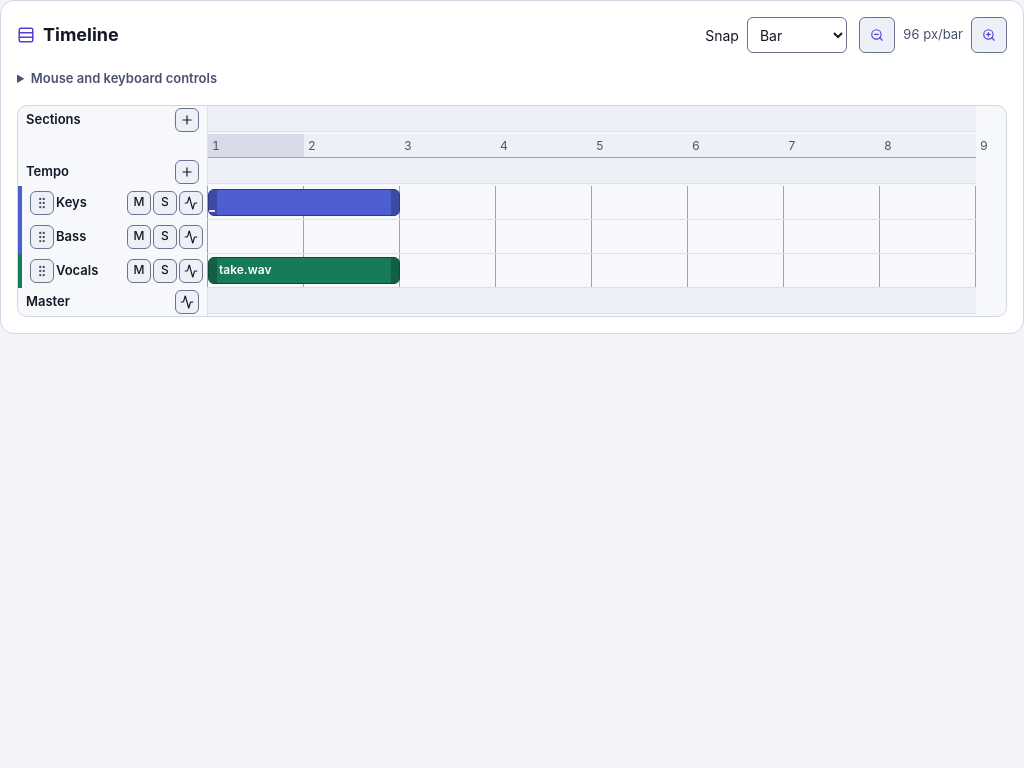
right-clicking a Clip opens its menu, where it offers one, and choosing an item closes it
Note: A Pattern Clip offers nothing here, so the platform's own menu is left alone.
Step 1. Right-click the button named "Keys Clip 1" → point(304, 202), box [208,188,400,216]
Step 2. Right-click the button with aria-label "Vocals Clip 1" → point(304, 270), box [208,256,400,284]
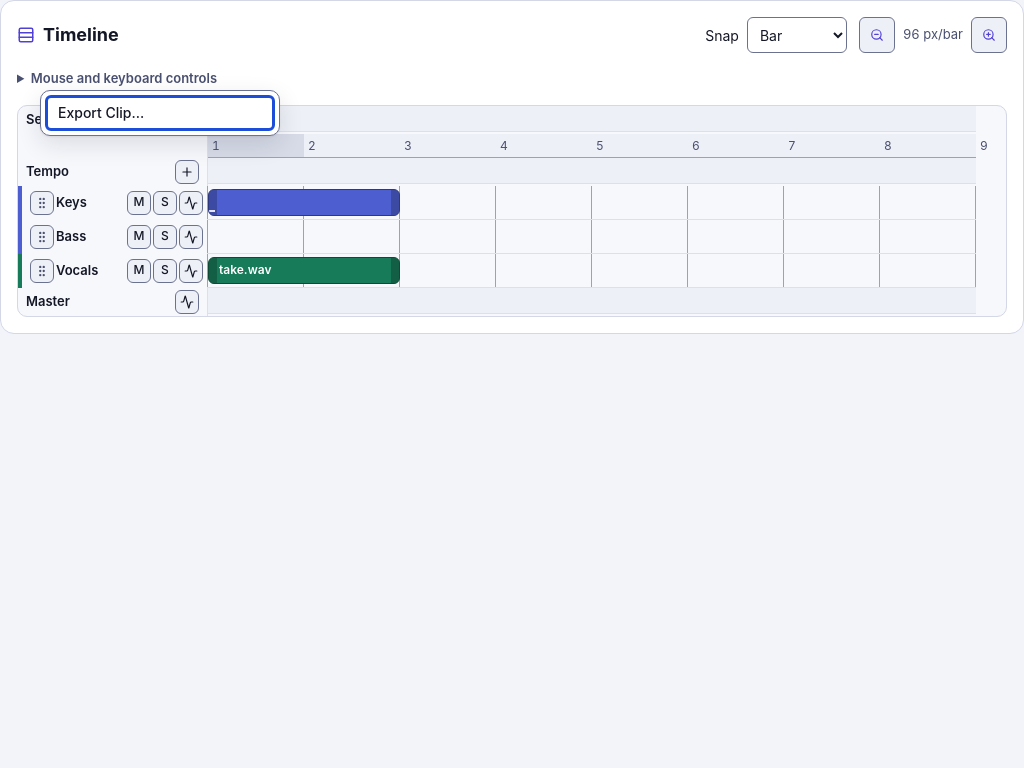
Step 3. Click the menu item "Export Clip…" → point(160, 113), box [45,95,275,131]
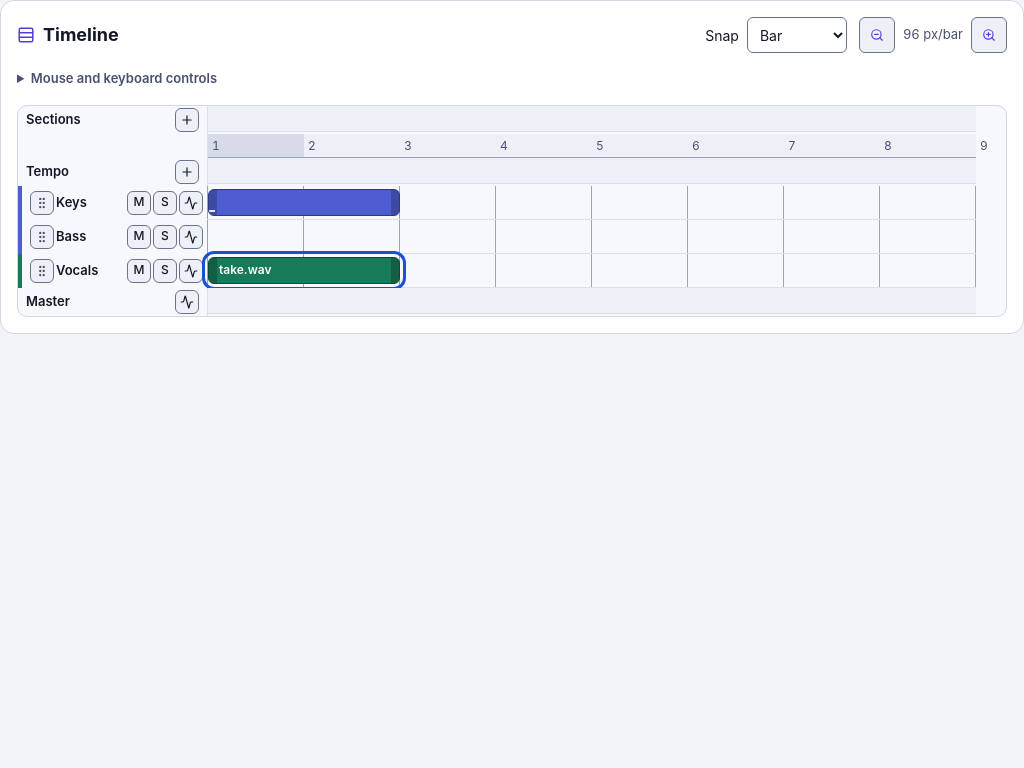
Now the menu is gone
Note: Escape closes it too, and a click outside.
Step 4. Right-click the button with aria-label "Vocals Clip 1" → point(304, 270), box [208,256,400,284]
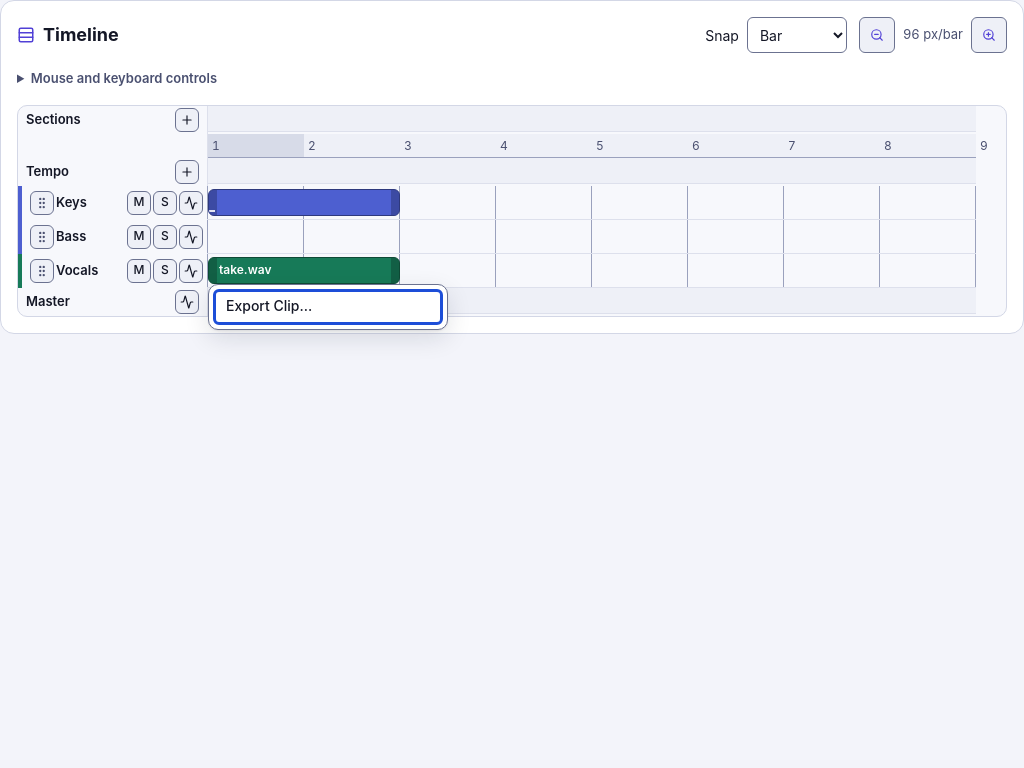
Step 5. Press Escape in the menu item "Export Clip…", box [213,288,443,324]
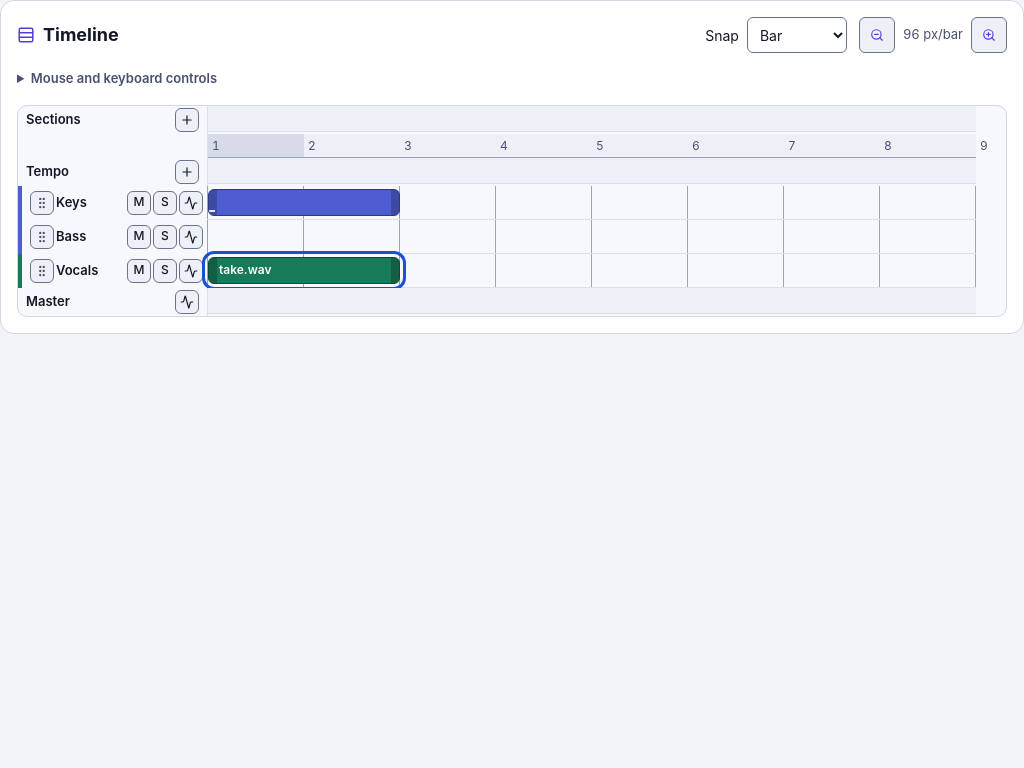
Now the menu is gone
Step 6. Right-click the button with aria-label "Vocals Clip 1" → point(304, 270), box [208,256,400,284]
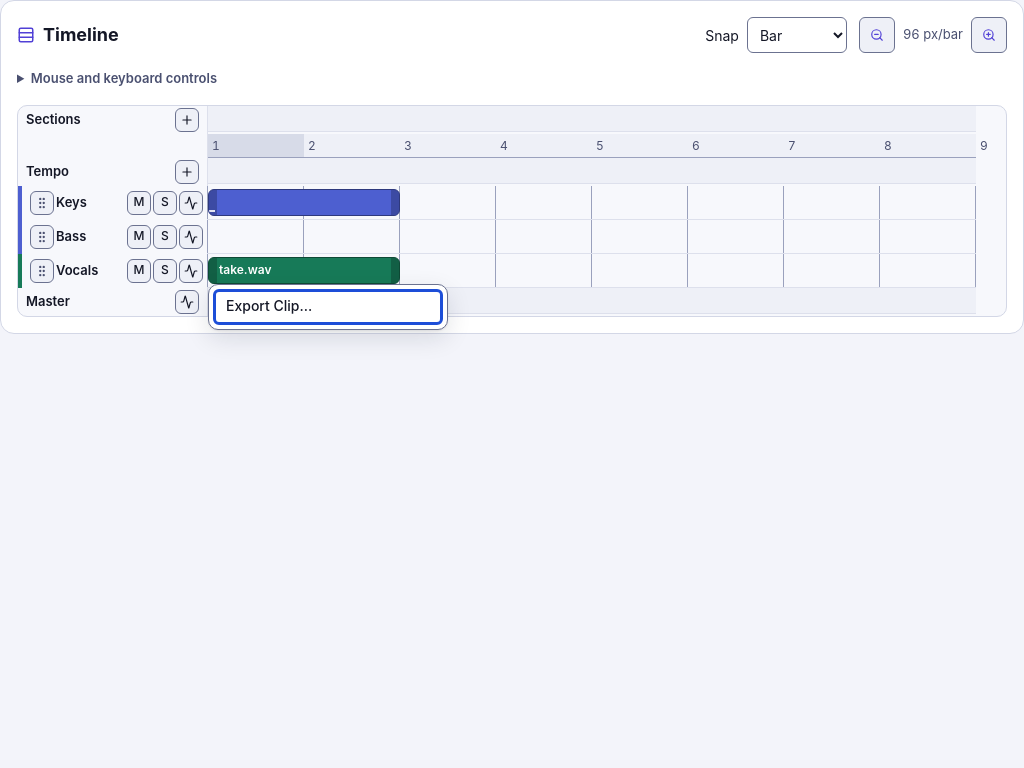
Step 7. Press the mouse on the element that starts with "Timeline" → point(512, 384), box [0,0,1023,767]
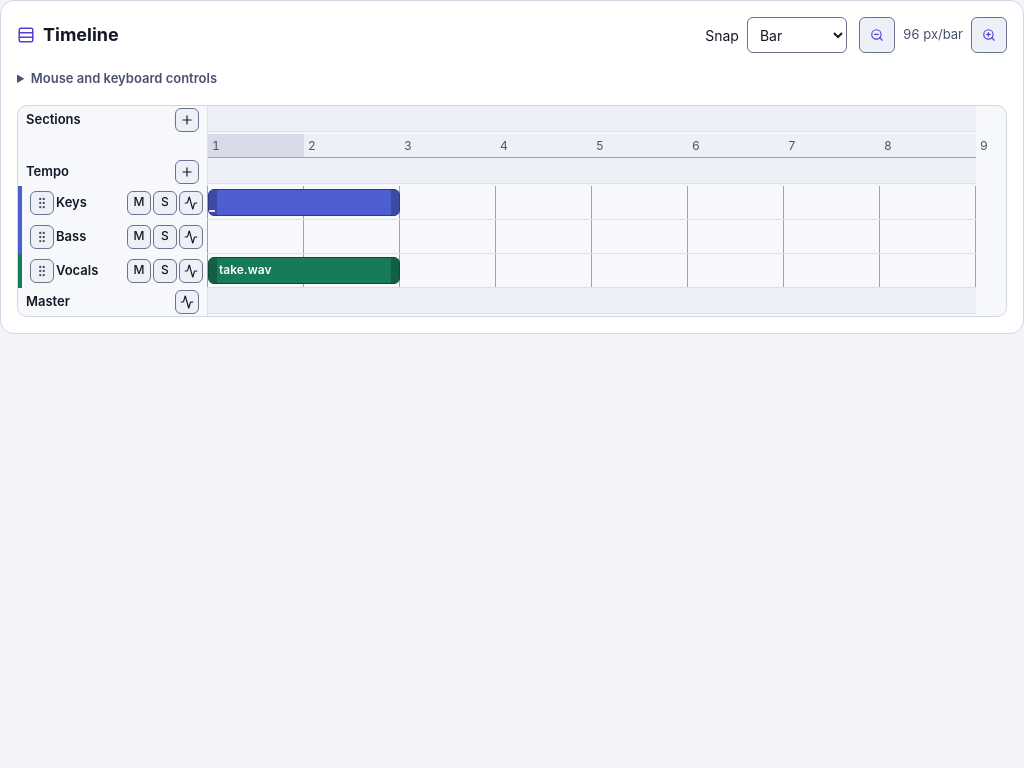
Now the menu is gone
